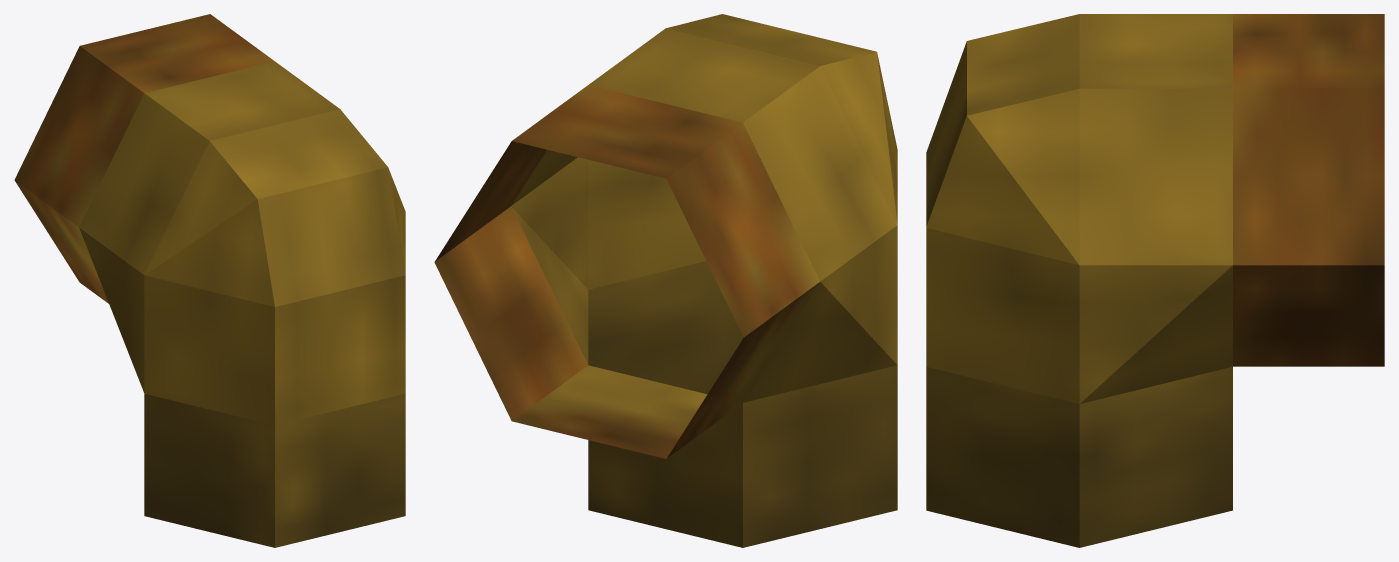
Rendered from MESH_PIPE_MEDIUM_2_R_001.fbx.
The picture shows the model from 3 angles, left to right: view 1: azimuth 30°, elevation 25°; view 2: azimuth 150°, elevation 25°; view 3: azimuth 270°, elevation 25°; orthographic projection. The views are drawn at different scales.
Visible parts, largest first — view 1: MESH_PIPE_MEDIUM_2_R.001; view 2: MESH_PIPE_MEDIUM_2_R.001; view 3: MESH_PIPE_MEDIUM_2_R.001.
Part boxes in pixels (<box>): MESH_PIPE_MEDIUM_2_R.001: <box>14,14,405,547</box>; MESH_PIPE_MEDIUM_2_R.001: <box>434,14,897,547</box>; MESH_PIPE_MEDIUM_2_R.001: <box>926,14,1384,547</box>.
Bounding box in the file's own units: 0.2541 × 0.3339 × 0.3291.
